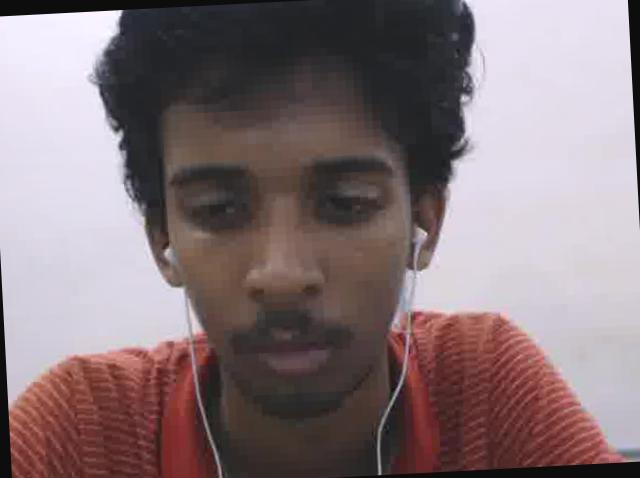bosan: (152, 71, 423, 415)
